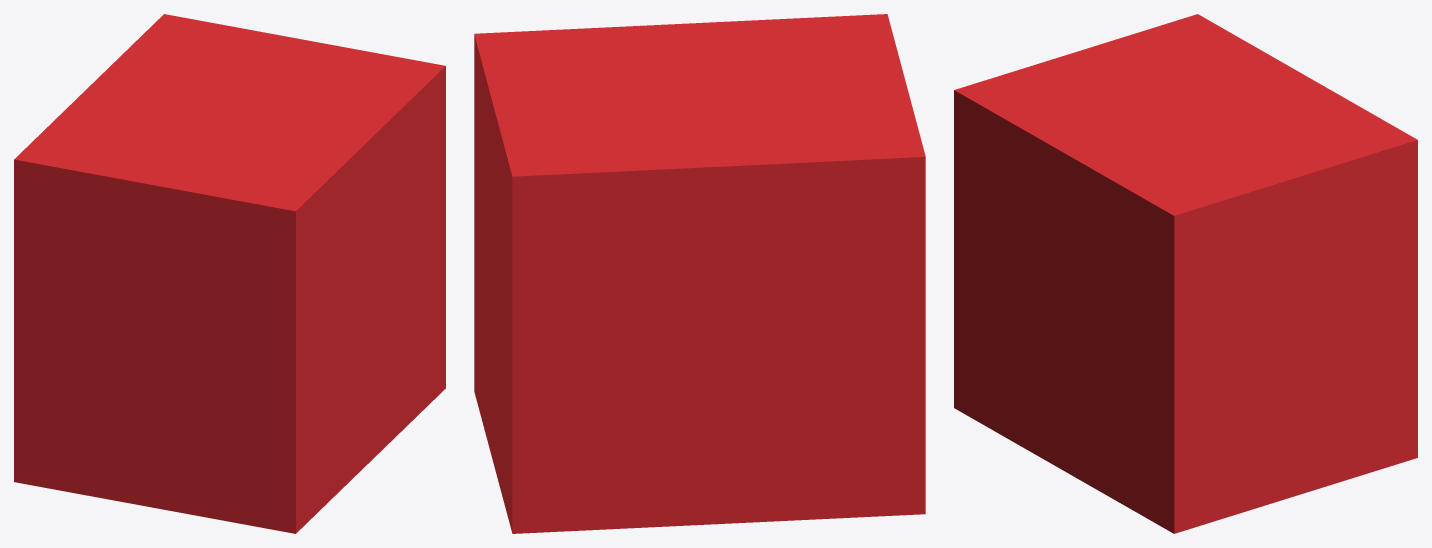
Rendered from cubeanimation.fbx.
The picture shows the model from 3 angles, left to right: view 1: azimuth 30°, elevation 25°; view 2: azimuth 150°, elevation 25°; view 3: azimuth 270°, elevation 25°; orthographic projection. The views are drawn at different scales.
Visible parts, largest first — view 1: Cube; view 2: Cube; view 3: Cube.
Part boxes in pixels (x1=…): Cube: x1=14, y1=14, x2=445, y2=533; Cube: x1=474, y1=14, x2=925, y2=533; Cube: x1=954, y1=14, x2=1417, y2=533.
Size of the model in its own units: 495 by 363 by 480.
